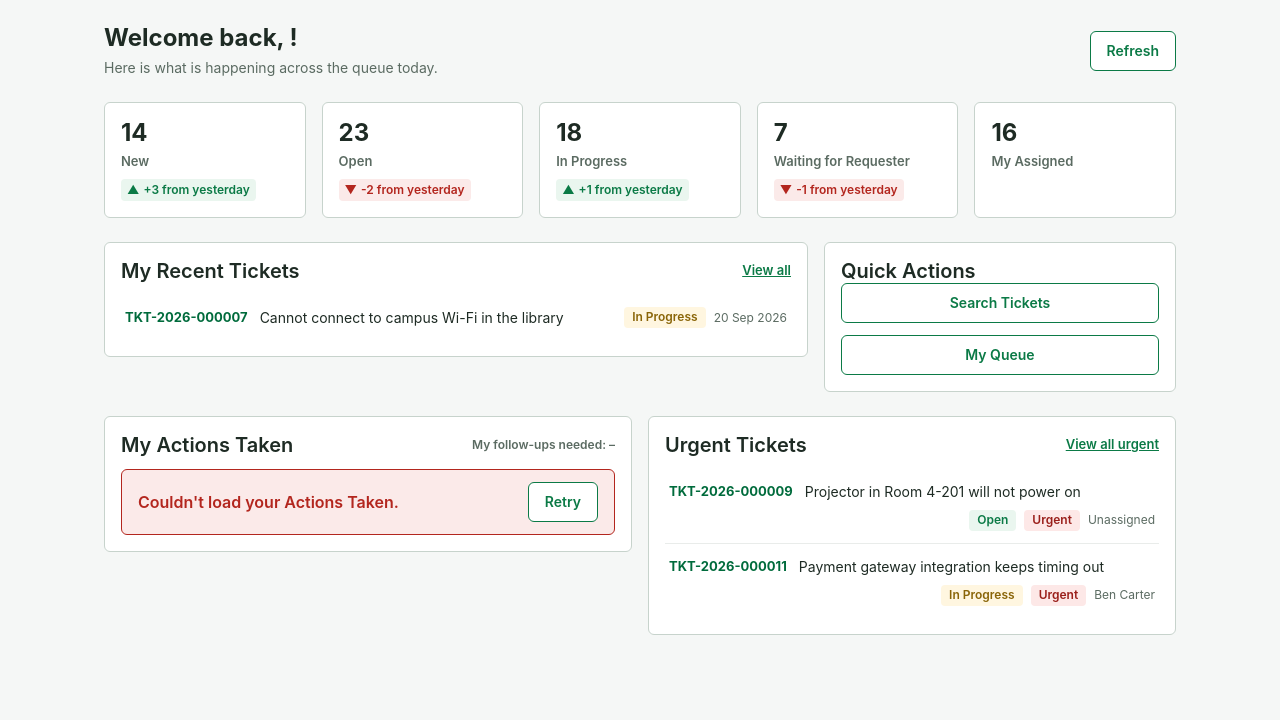
Test: UI-11 — My Actions Taken panel (FR-17, AC-15) › fails alone: friendly retry here, every other section still renders
Expected: the message with test id "my-actions-error" shows "Couldn't load your Actions Taken", [138,492,399,512]
Expected: the element with test id "metric-cards" is shown, [104,102,1176,218]
Retry recovers only this section.
Click the button "Retry": {"x": 563, "y": 502} [528,482,598,522]
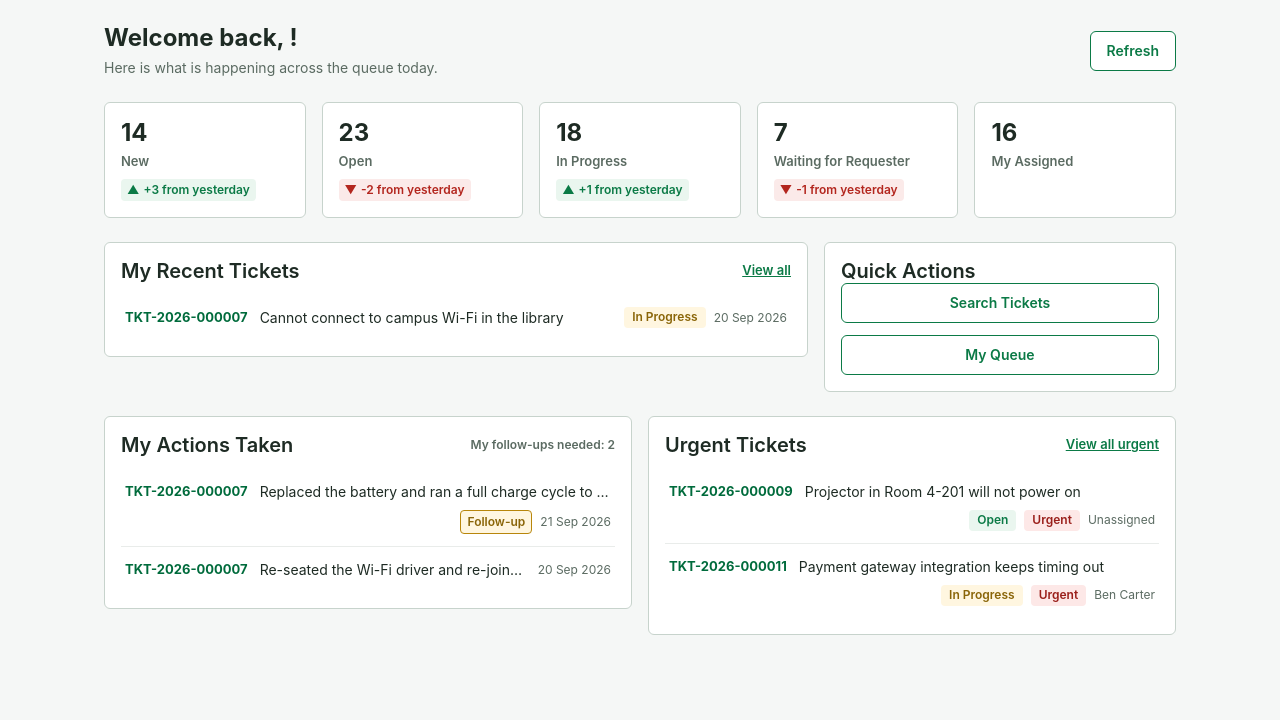
Now the list with test id "my-actions-list" is shown, box [121,469,615,592]
Now the message with test id "my-actions-error" is gone
